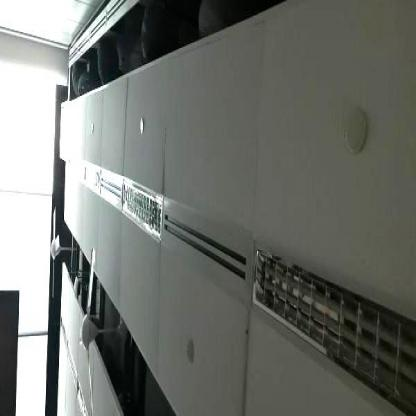light_off: (249, 229, 414, 415), (115, 154, 177, 252)
